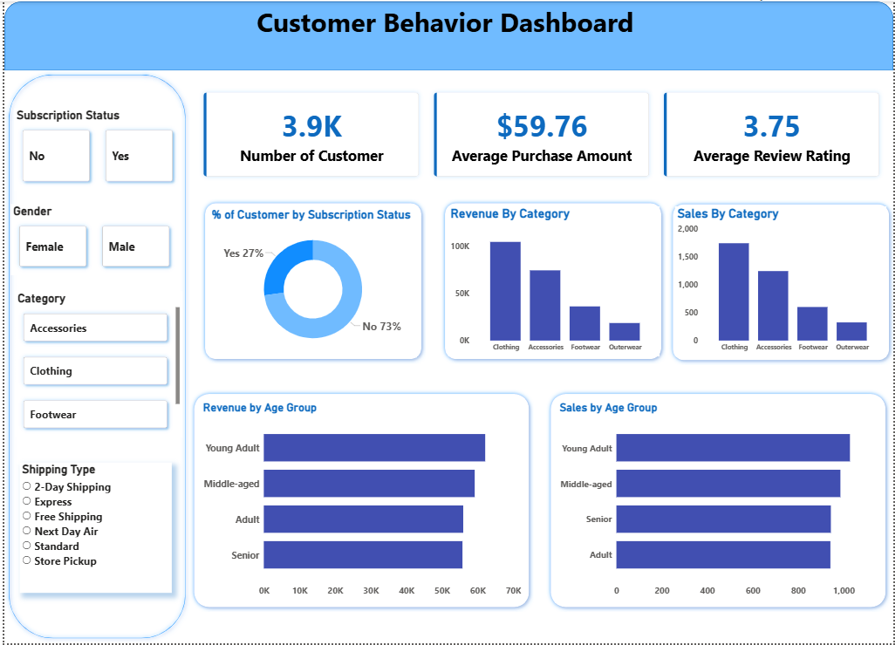

The dashboard page shown, as its layout file describes it:
{"tool":"powerbi","page":{"name":"Page 1","canvas":[1800,1300],"ordinal":0},"visuals":[{"type":"shape","box":[376,786,696,450],"z":0},{"type":"shape","box":[398,400,456,334],"z":1000},{"type":"cardVisual","fields":{"Data":["customer_behavior customer.Number of Customer","customer_behavior customer.Average Purchase Amount","customer_behavior customer.Average Review Rating"]},"box":[376,156,1424,226],"z":2000},{"type":"shape","box":[0,0,1800,140],"z":3000},{"type":"textbox","box":[0,0,1800,174],"z":4000},{"type":"donutChart","title":"% of Customer by Subscription Status","fields":{"Category":["customer_behavior customer.subscription_status"],"Y":["CountNonNull(customer_behavior customer.customer_id)"]},"box":[416,418,420,304],"z":5000},{"type":"shape","box":[884,400,456,334],"z":6000},{"type":"shape","box":[1344,402,456,334],"z":7000},{"type":"clusteredColumnChart","title":"Revenue By Category","fields":{"Y":["Sum(customer_behavior customer.purchase_amount)"],"Category":["customer_behavior customer.category"]},"box":[898,416,428,304],"z":8000},{"type":"clusteredColumnChart","title":"Sales By Category","fields":{"Category":["customer_behavior customer.category"],"Y":["CountNonNull(customer_behavior customer.customer_id)"]},"box":[1358,416,428,304],"z":9000},{"type":"shape","box":[0,140,376,1160],"z":10000},{"type":"advancedSlicerVisual","fields":{"Values":["customer_behavior customer.subscription_status"]},"box":[20,216,338,166],"z":11000},{"type":"advancedSlicerVisual","fields":{"Values":["customer_behavior customer.gender"]},"box":[14,410,338,144],"z":12000},{"type":"advancedSlicerVisual","fields":{"Values":["customer_behavior customer.category"]},"box":[22,588,338,296],"z":13000},{"type":"listSlicer","fields":{"Values":["customer_behavior customer.shipping_type"]},"box":[30,934,308,264],"z":14000},{"type":"clusteredBarChart","title":"Revenue by Age Group","fields":{"Y":["Sum(customer_behavior customer.purchase_amount)"],"Category":["customer_behavior customer.age_group"]},"box":[398,808,654,408],"z":15000},{"type":"shape","box":[1098,786,696,450],"z":15001},{"type":"clusteredBarChart","title":"Sales by Age Group","fields":{"Y":["CountNonNull(customer_behavior customer.customer_id)"],"Category":["customer_behavior customer.age_group"]},"box":[1120,808,654,408],"z":15002}]}

Visuals, with their boxes in screenshot pixels (x1, y1, x2, y2), scaled from the page's 1800x1300 canvas onto the 895x645 screenshot:
shape: detection(187, 390, 533, 613)
shape: detection(198, 198, 425, 364)
cardVisual - customer_behavior customer.Number of Customer x customer_behavior customer.Average Purchase Amount: detection(187, 77, 894, 190)
shape: detection(0, 0, 894, 69)
textbox: detection(0, 0, 894, 86)
"% of Customer by Subscription Status" donutChart: detection(207, 207, 416, 358)
shape: detection(440, 198, 666, 364)
shape: detection(668, 199, 894, 365)
"Revenue By Category" clusteredColumnChart: detection(447, 206, 659, 357)
"Sales By Category" clusteredColumnChart: detection(675, 206, 888, 357)
shape: detection(0, 69, 187, 644)
advancedSlicerVisual - customer_behavior customer.subscription_status: detection(10, 107, 178, 190)
advancedSlicerVisual - customer_behavior customer.gender: detection(7, 203, 175, 275)
advancedSlicerVisual - customer_behavior customer.category: detection(11, 292, 179, 439)
listSlicer - customer_behavior customer.shipping_type: detection(15, 463, 168, 594)
"Revenue by Age Group" clusteredBarChart: detection(198, 401, 523, 603)
shape: detection(546, 390, 892, 613)
"Sales by Age Group" clusteredBarChart: detection(557, 401, 882, 603)
